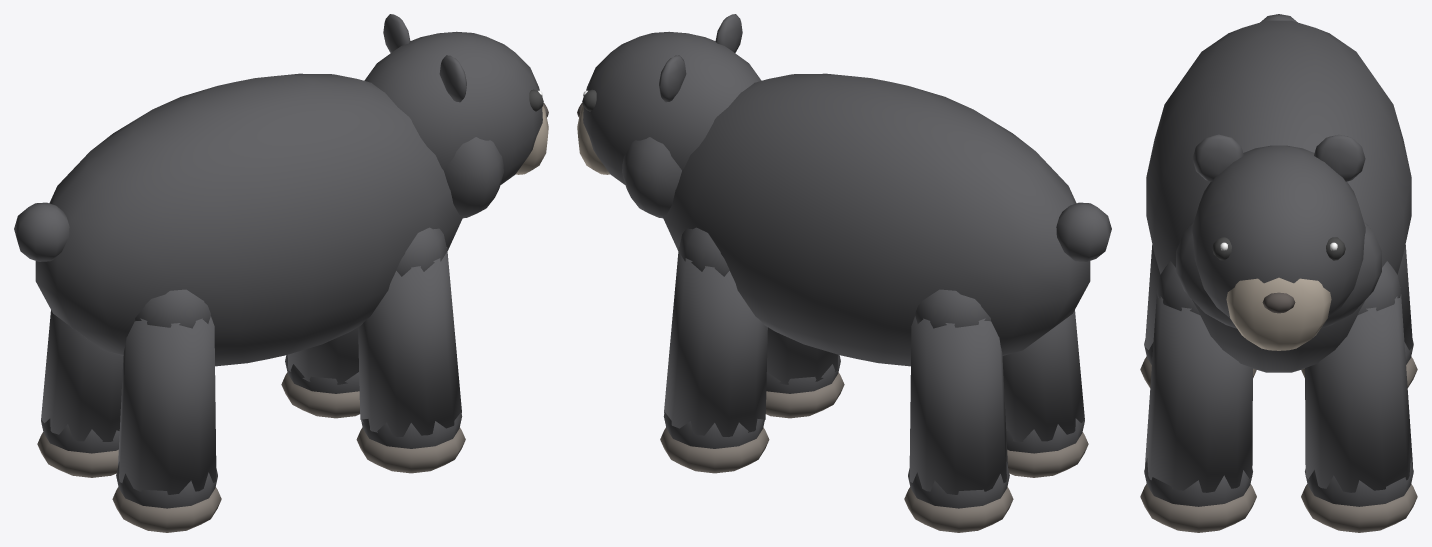
The model's file is asiatic-black-bear.glb.
The picture shows the model from 3 angles, left to right: view 1: azimuth 30°, elevation 25°; view 2: azimuth 150°, elevation 25°; view 3: azimuth 270°, elevation 25°; orthographic projection. The views are drawn at different scales.
Visible parts, largest first — view 1: e, e.007, e.017, e.001, e.010, e.004, e.027; view 2: e, e.010, e.017, e.004, e.007, e.001, e.027; view 3: e, e.017, e.001, e.004, e.010, e.007.
Boxes of the visible parts, bbox=[...] form: e: bbox=[35, 73, 462, 366]; e.007: bbox=[112, 289, 221, 532]; e.017: bbox=[364, 14, 548, 218]; e.001: bbox=[356, 227, 465, 473]; e.010: bbox=[37, 310, 123, 477]; e.004: bbox=[281, 327, 359, 418]; e.027: bbox=[14, 202, 69, 261]; e: bbox=[663, 73, 1090, 366]; e.010: bbox=[904, 289, 1013, 532]; e.017: bbox=[577, 14, 761, 218]; e.004: bbox=[660, 227, 769, 473]; e.007: bbox=[1002, 310, 1088, 477]; e.001: bbox=[766, 327, 844, 418]; e.027: bbox=[1056, 202, 1111, 261]; e: bbox=[1146, 20, 1411, 372]; e.017: bbox=[1176, 134, 1381, 350]; e.001: bbox=[1140, 261, 1256, 532]; e.004: bbox=[1301, 261, 1417, 532]; e.010: bbox=[1301, 245, 1417, 387]; e.007: bbox=[1140, 245, 1256, 387].
Bounding box in the file's own units: 1.61 × 1.13 × 0.684.
